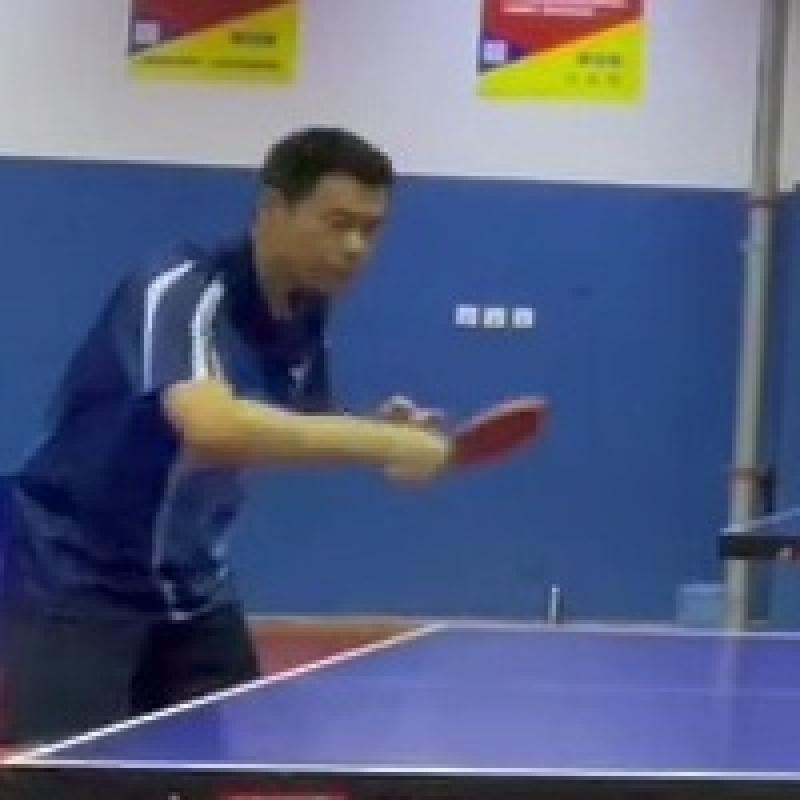bats: (435, 388, 558, 476)
